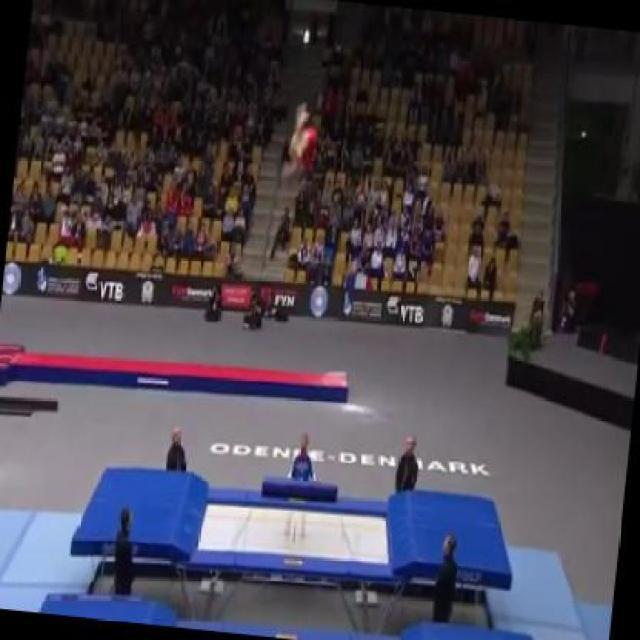non-fight: (278, 99, 324, 190)
